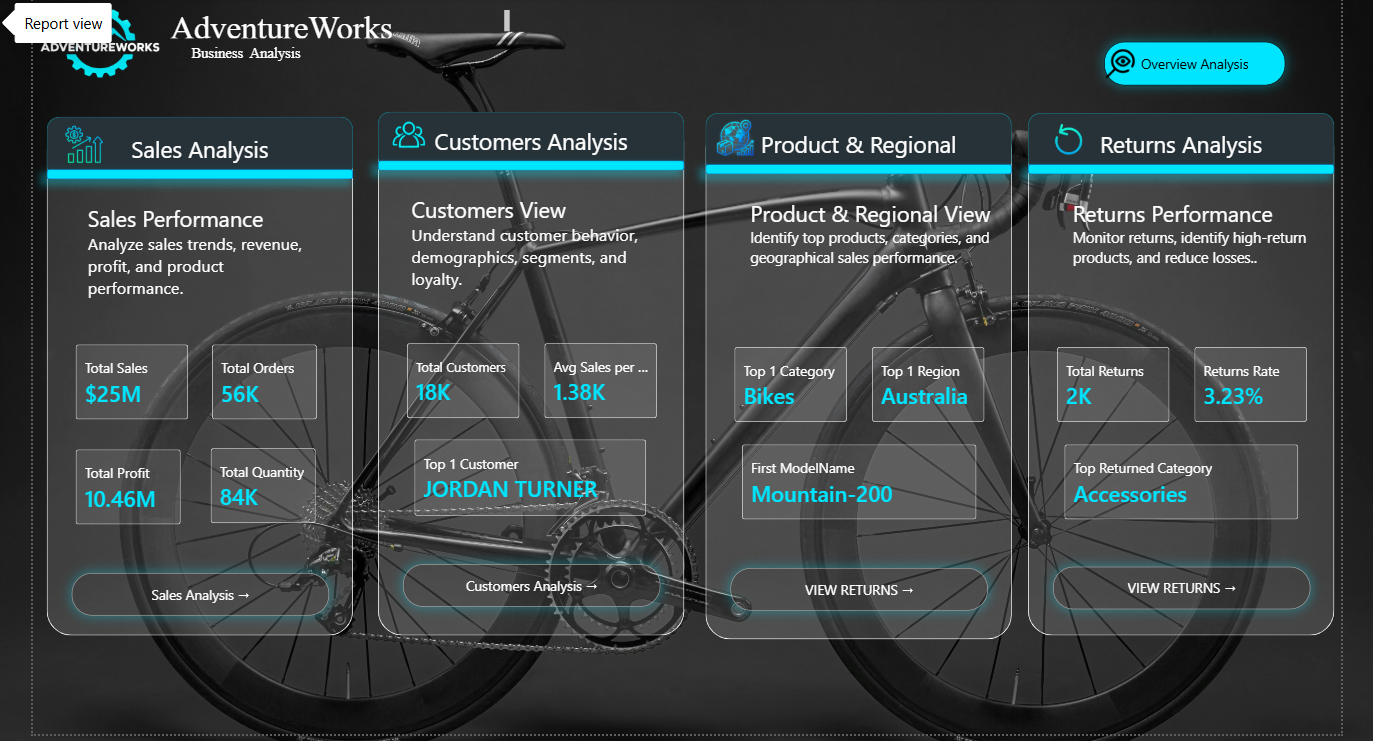

The page's visual inventory and layout, read from the dashboard file:
{"tool":"powerbi","page":{"name":"Home Page ","canvas":[1920,1080],"ordinal":0},"visuals":[{"type":"shape","box":[20.2,188.2,449.4,746.5],"z":0},{"type":"shape","box":[20.2,174.3,449.4,91.7],"z":1000},{"type":"image","box":[0,0,196.3,128.4],"z":2000},{"type":"image","box":[45.9,186.4,58.7,55],"z":3000},{"type":"shape","box":[20.2,250.6,449.4,14.7],"z":4000},{"type":"textbox","box":[227.4,64.2,218.3,47.7],"z":5000},{"type":"textbox","box":[196.3,12.8,508.1,51.4],"z":6000},{"type":"textbox","box":[75.2,297.1,341.2,194.4],"z":7000},{"type":"cardVisual","fields":{"Data":["Sales.Total Sales"]},"box":[45.9,490.8,199.9,144.9],"z":8000},{"type":"cardVisual","fields":{"Data":["Sales.Total Orders"]},"box":[245.8,490.8,188.9,144.9],"z":9000},{"type":"cardVisual","fields":{"Data":["Sales.Total Profit"]},"box":[45.9,644.9,188.9,144.9],"z":10000},{"type":"actionButton","box":[56.9,843,377.9,62.4],"z":11000},{"type":"actionButton","box":[1572,64.2,266,64.2],"z":12000},{"type":"shape","box":[506.3,176.1,449.4,759.4],"z":13000},{"type":"shape","box":[506.3,166.9,449.4,86.2],"z":14000},{"type":"shape","box":[506.4,238.3,449.4,14.7],"z":15000},{"type":"image","box":[514,175,78.9,55],"z":16000},{"type":"textbox","box":[550.6,285,366.8,168.8],"z":17000},{"type":"cardVisual","fields":{"Data":["Min(Customers.Full Name)"]},"box":[542.3,631.6,374.3,146.7],"z":18000},{"type":"cardVisual","fields":{"Data":["Customers.Avg Sales per Customer"]},"box":[733.9,489.6,199.9,144.9],"z":19000},{"type":"cardVisual","fields":{"Data":["Customers.Total Customers"]},"box":[532.1,489.6,199.9,144.9],"z":20000},{"type":"actionButton","box":[543,830.4,377.9,62.4],"z":21000},{"type":"shape","box":[986.8,185.6,449.4,755.7],"z":22000},{"type":"shape","box":[986.8,169.5,449.4,89.9],"z":23000},{"type":"shape","box":[986.8,244.7,449.4,14.7],"z":24000},{"type":"image","box":[986.1,169.9,86.2,66],"z":25000},{"type":"textbox","box":[1047.4,290.5,366.8,168.8],"z":26000},{"type":"cardVisual","fields":{"Data":["Min(Products.ModelName)"]},"box":[1024.1,638.8,378.6,144.6],"z":27000},{"type":"cardVisual","fields":{"Data":["Min(Territories.Region)"]},"box":[1214.3,496,199.9,144.9],"z":28000},{"type":"cardVisual","fields":{"Data":["Min(Product_Categories. CategoryName)"]},"box":[1012.5,496,199.9,144.9],"z":29000},{"type":"actionButton","box":[1023.4,836.9,377.9,62.4],"z":30000},{"type":"shape","box":[1460.1,181.6,449.4,753.9],"z":31000},{"type":"shape","box":[1460.8,168,449.4,89.9],"z":32000},{"type":"shape","box":[1460.8,243.2,449.4,14.7],"z":33000},{"type":"image","box":[1481,179,78.9,55],"z":34000},{"type":"textbox","box":[1521.3,289.1,366.8,168.8],"z":35000},{"type":"cardVisual","fields":{"Data":["Min(Product_Categories. CategoryName)"]},"box":[1496.7,638.3,377.9,144.9],"z":36000},{"type":"cardVisual","fields":{"Data":["Sales.Returns Rate"]},"box":[1688.2,494.5,199.9,144.9],"z":37000},{"type":"cardVisual","fields":{"Data":["Sales.Total Returns"]},"box":[1486.5,494.5,199.9,144.9],"z":38000},{"type":"actionButton","box":[1497.3,835.4,377.9,62.4],"z":39000},{"type":"cardVisual","fields":{"Data":["Sales.Total Qty"]},"box":[244,643.8,188.9,144.9],"z":39001},{"type":"image","box":[1572,75.2,47.7,42.2],"z":39002}]}

Visuals, with their boxes on the page's 1920x1080 design canvas (x1, y1, x2, y2). These are canvas units, not pixel positions in the 1373x741 screenshot, which may show the page scaled, cropped or inside an application window:
shape: BBox(20, 188, 470, 935)
shape: BBox(20, 174, 470, 266)
image: BBox(0, 0, 196, 128)
image: BBox(46, 186, 105, 241)
shape: BBox(20, 251, 470, 265)
textbox: BBox(227, 64, 446, 112)
textbox: BBox(196, 13, 704, 64)
textbox: BBox(75, 297, 416, 492)
cardVisual - Sales.Total Sales: BBox(46, 491, 246, 636)
cardVisual - Sales.Total Orders: BBox(246, 491, 435, 636)
cardVisual - Sales.Total Profit: BBox(46, 645, 235, 790)
actionButton: BBox(57, 843, 435, 905)
actionButton: BBox(1572, 64, 1838, 128)
shape: BBox(506, 176, 956, 936)
shape: BBox(506, 167, 956, 253)
shape: BBox(506, 238, 956, 253)
image: BBox(514, 175, 593, 230)
textbox: BBox(551, 285, 917, 454)
cardVisual - Min(Customers.Full Name): BBox(542, 632, 917, 778)
cardVisual - Customers.Avg Sales per Customer: BBox(734, 490, 934, 634)
cardVisual - Customers.Total Customers: BBox(532, 490, 732, 634)
actionButton: BBox(543, 830, 921, 893)
shape: BBox(987, 186, 1436, 941)
shape: BBox(987, 170, 1436, 259)
shape: BBox(987, 245, 1436, 259)
image: BBox(986, 170, 1072, 236)
textbox: BBox(1047, 290, 1414, 459)
cardVisual - Min(Products.ModelName): BBox(1024, 639, 1403, 783)
cardVisual - Min(Territories.Region): BBox(1214, 496, 1414, 641)
cardVisual - Min(Product_Categories. CategoryName): BBox(1012, 496, 1212, 641)
actionButton: BBox(1023, 837, 1401, 899)
shape: BBox(1460, 182, 1910, 936)
shape: BBox(1461, 168, 1910, 258)
shape: BBox(1461, 243, 1910, 258)
image: BBox(1481, 179, 1560, 234)
textbox: BBox(1521, 289, 1888, 458)
cardVisual - Min(Product_Categories. CategoryName): BBox(1497, 638, 1875, 783)
cardVisual - Sales.Returns Rate: BBox(1688, 494, 1888, 639)
cardVisual - Sales.Total Returns: BBox(1486, 494, 1686, 639)
actionButton: BBox(1497, 835, 1875, 898)
cardVisual - Sales.Total Qty: BBox(244, 644, 433, 789)
image: BBox(1572, 75, 1620, 117)
